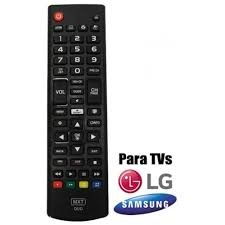remote control: (48, 5, 105, 215)
